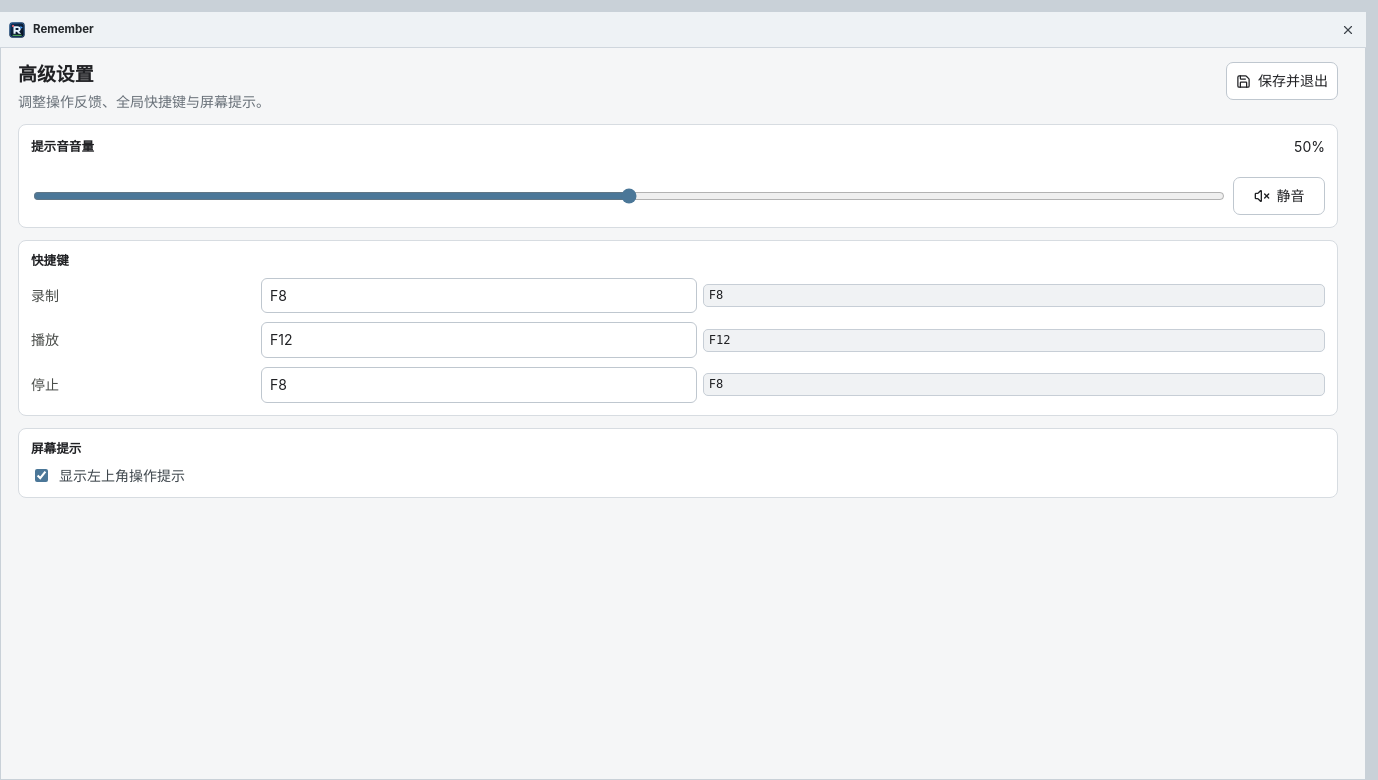
Test: AdvancedSettings › rejects unsafe single-key shortcuts and allows capture cancellation
The image size is (1378, 780).
Check: the button "保存并退出" is enabled, box [1226,62,1338,100]
Click the button named "录制快捷键": click(278, 295) [261,278,697,313]
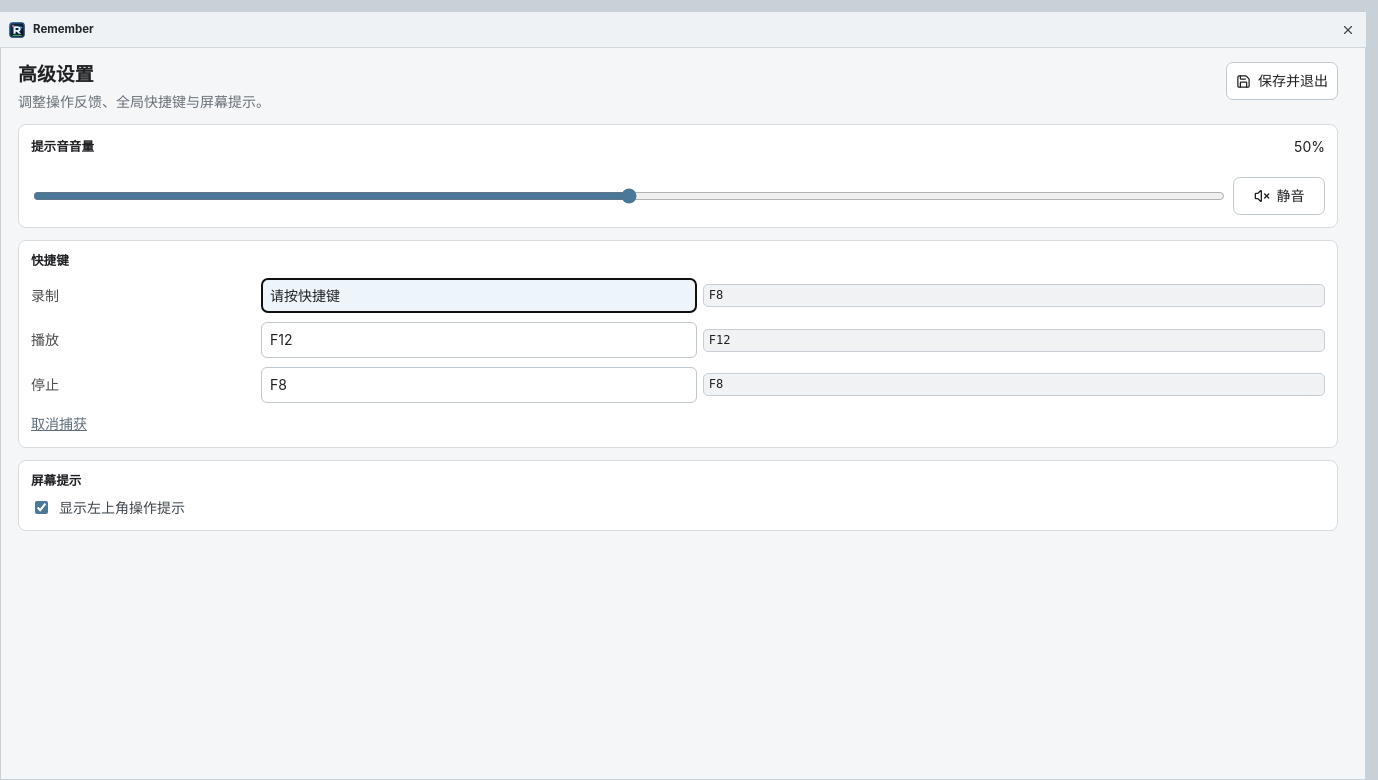
Type keys "a"
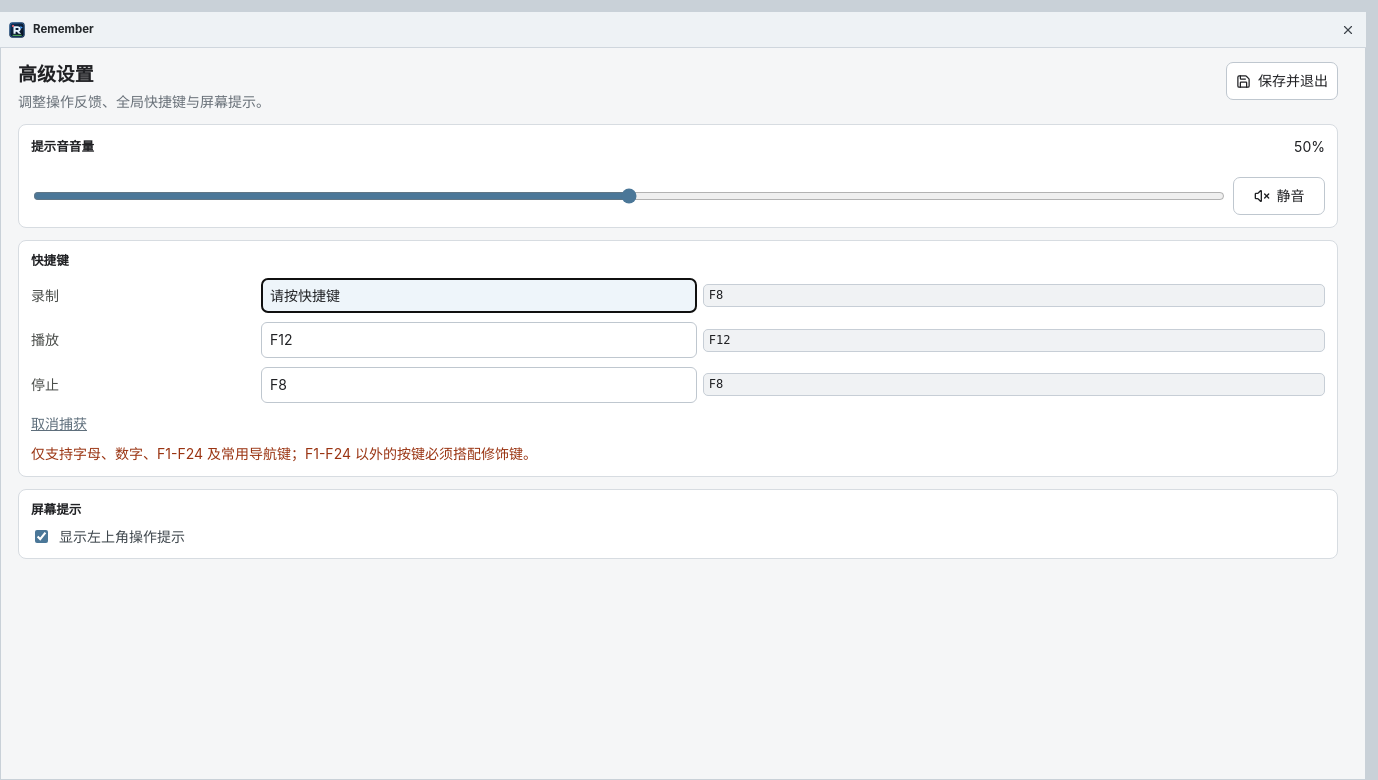
Check: the message reads "仅支持字母、数字、F1-F24 及常用导航键；F1-F24 以外的按键必须搭配修饰键。", box [31,445,537,462]
Click the button with aria-label "取消快捷键捕获": click(59, 423) [31,412,87,435]
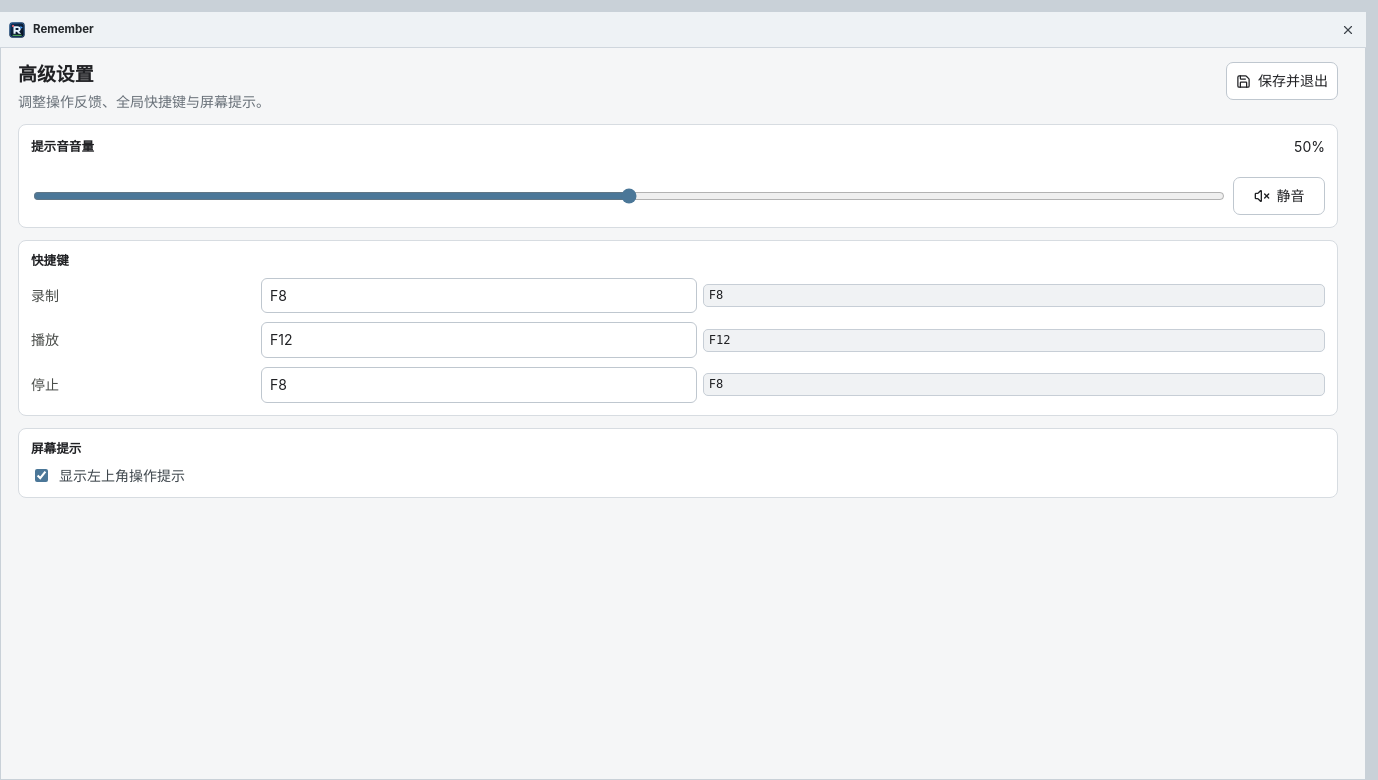
Check: the button named "录制快捷键" reads "F8", box [261,278,697,313]
